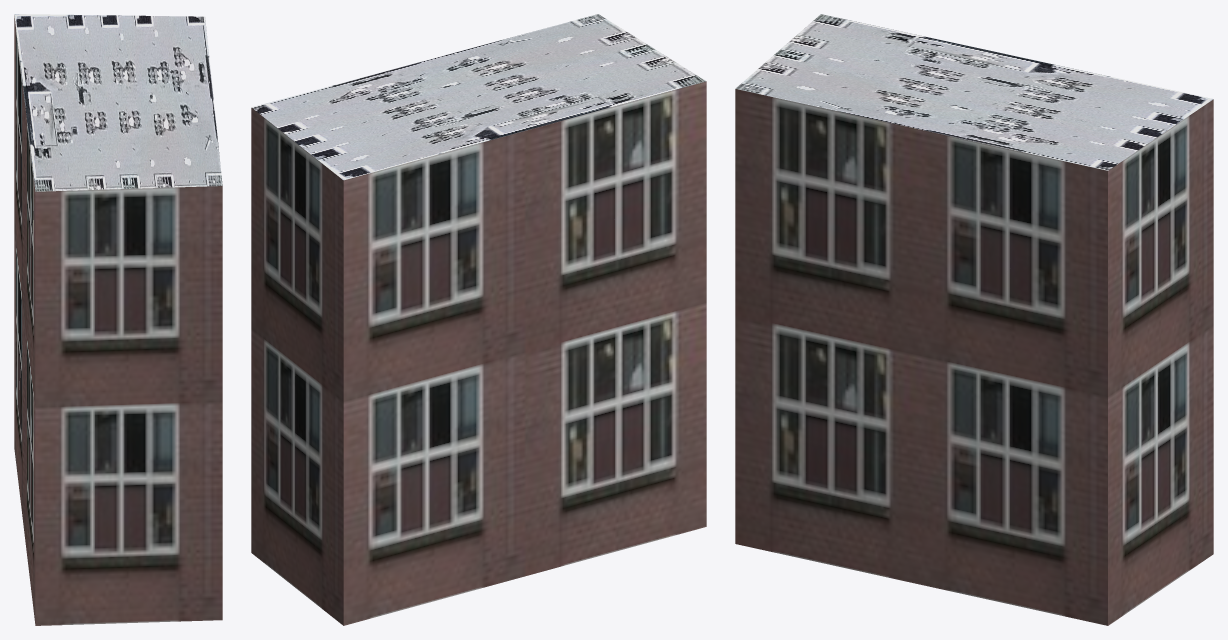
Rendered from ResTex__546.fbx.
3 renders of one model, left to right at view 1: azimuth 30°, elevation 25°; view 2: azimuth 150°, elevation 25°; view 3: azimuth 270°, elevation 25°, orthographic. The views are drawn at different scales.
Parts seen in each view (by area): view 1: CityEngineMaterial_12_m, CityEngineMaterial_m; view 2: CityEngineMaterial_12_m, CityEngineMaterial_m; view 3: CityEngineMaterial_12_m, CityEngineMaterial_m.
Part boxes in pixels (<box>): CityEngineMaterial_12_m: <box>14,15,222,625</box>; CityEngineMaterial_m: <box>14,14,222,191</box>; CityEngineMaterial_12_m: <box>251,81,706,625</box>; CityEngineMaterial_m: <box>251,14,705,180</box>; CityEngineMaterial_12_m: <box>735,89,1213,625</box>; CityEngineMaterial_m: <box>735,14,1213,170</box>.
Bounding box in the file's own units: 4.44 × 6 × 5.72.
2 materials, 2 textured.
